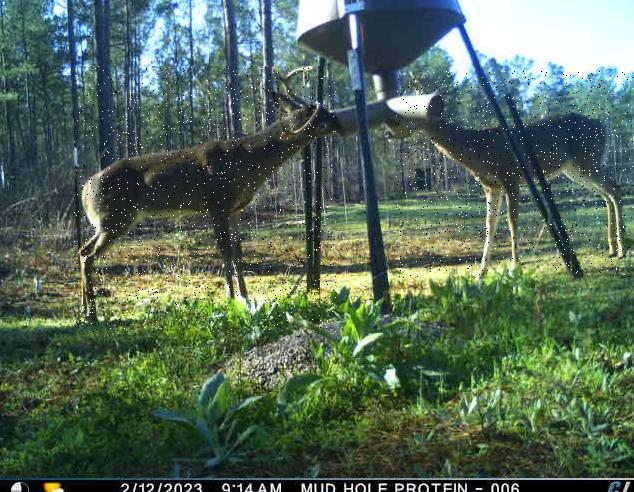Deer: (75, 67, 337, 333), (396, 71, 634, 278)
